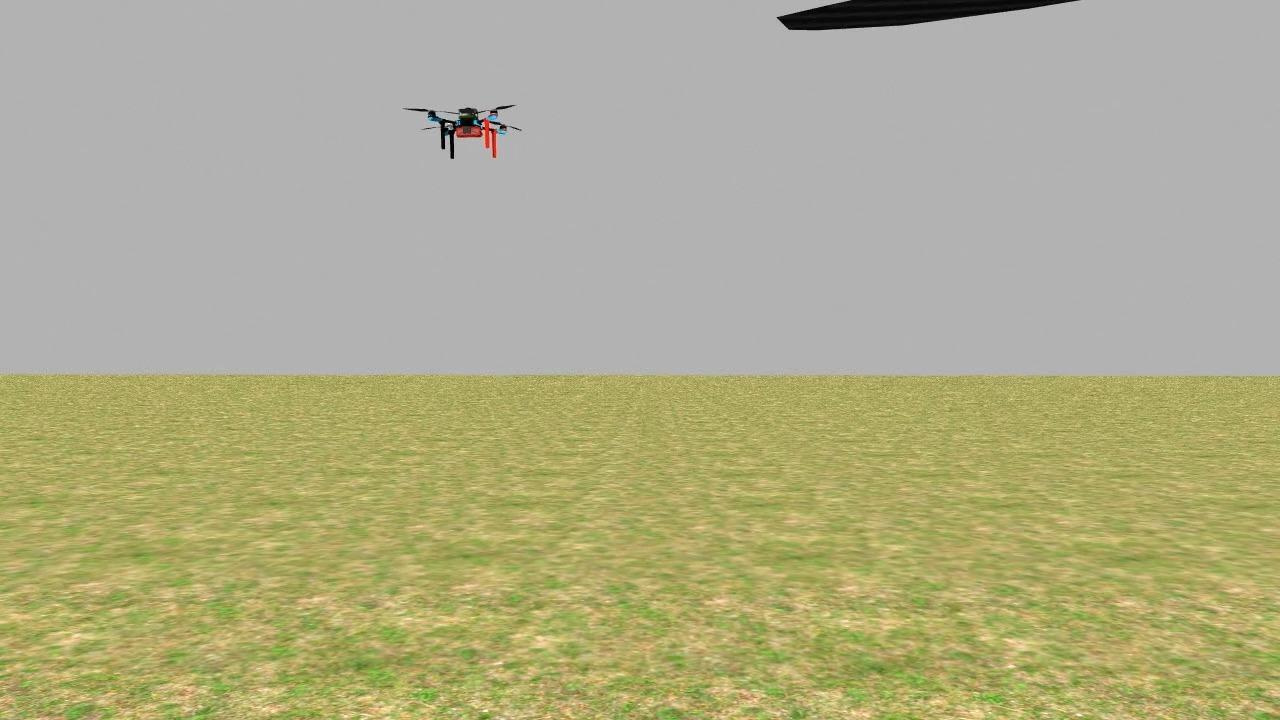UAV: (399, 87, 537, 172)
